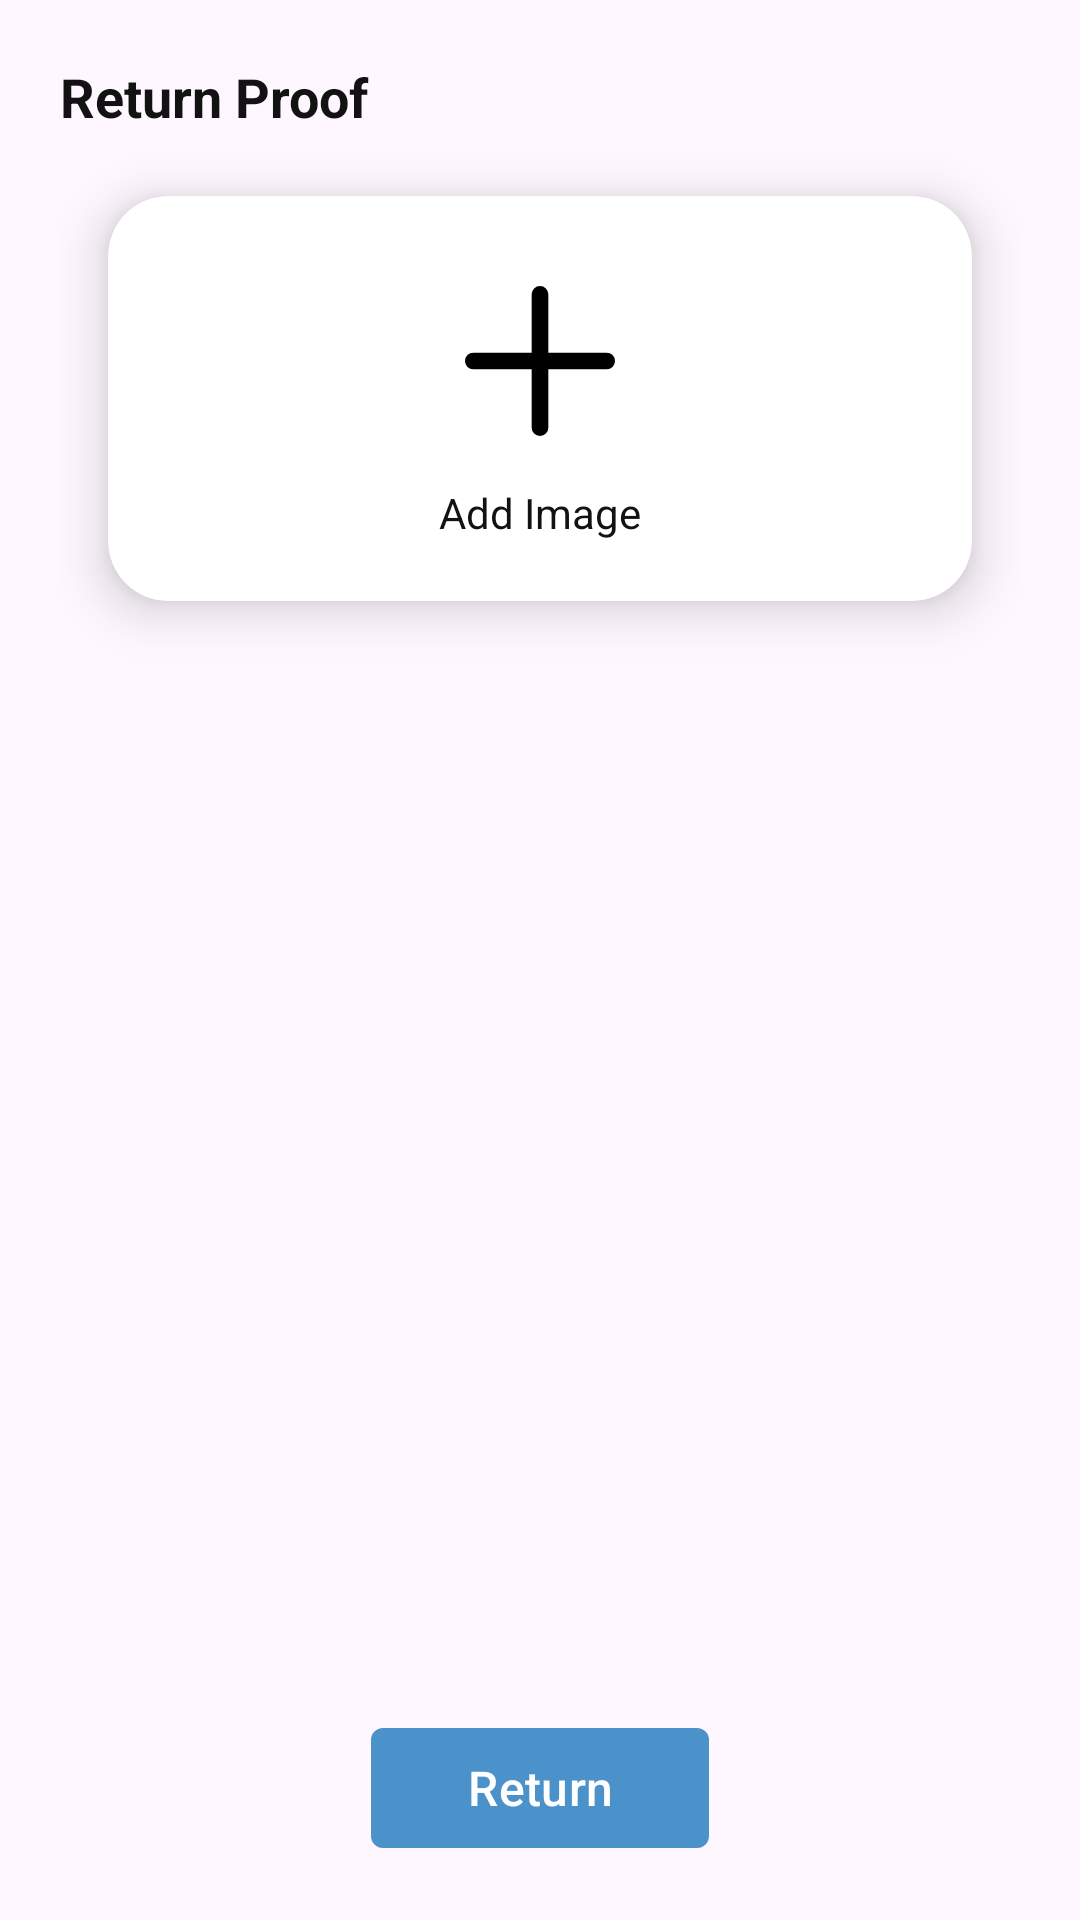

Icon bounding boxes for this 1080 × 1920 phone screenshot, format (x1, y1, x2, y2):
plus: (465, 286, 615, 436)
